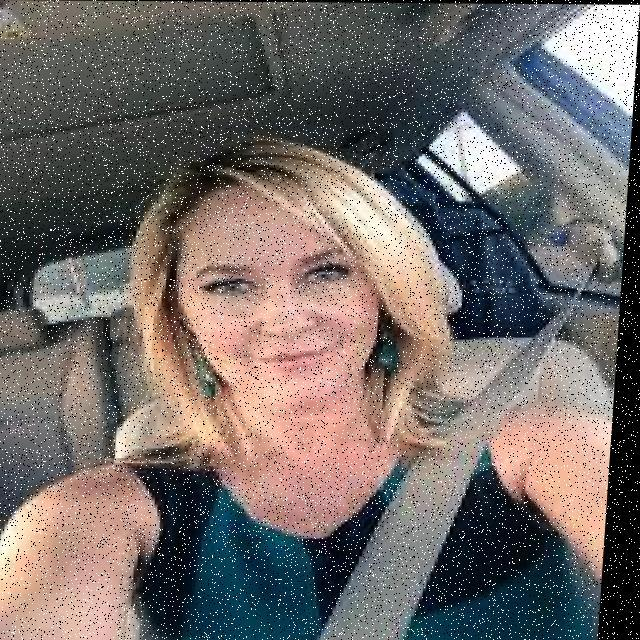seatbelt: (91, 369, 584, 640)
